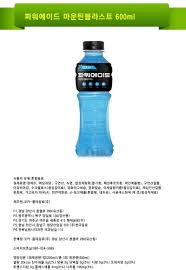powerade_mountainblast: (72, 35, 116, 159)
